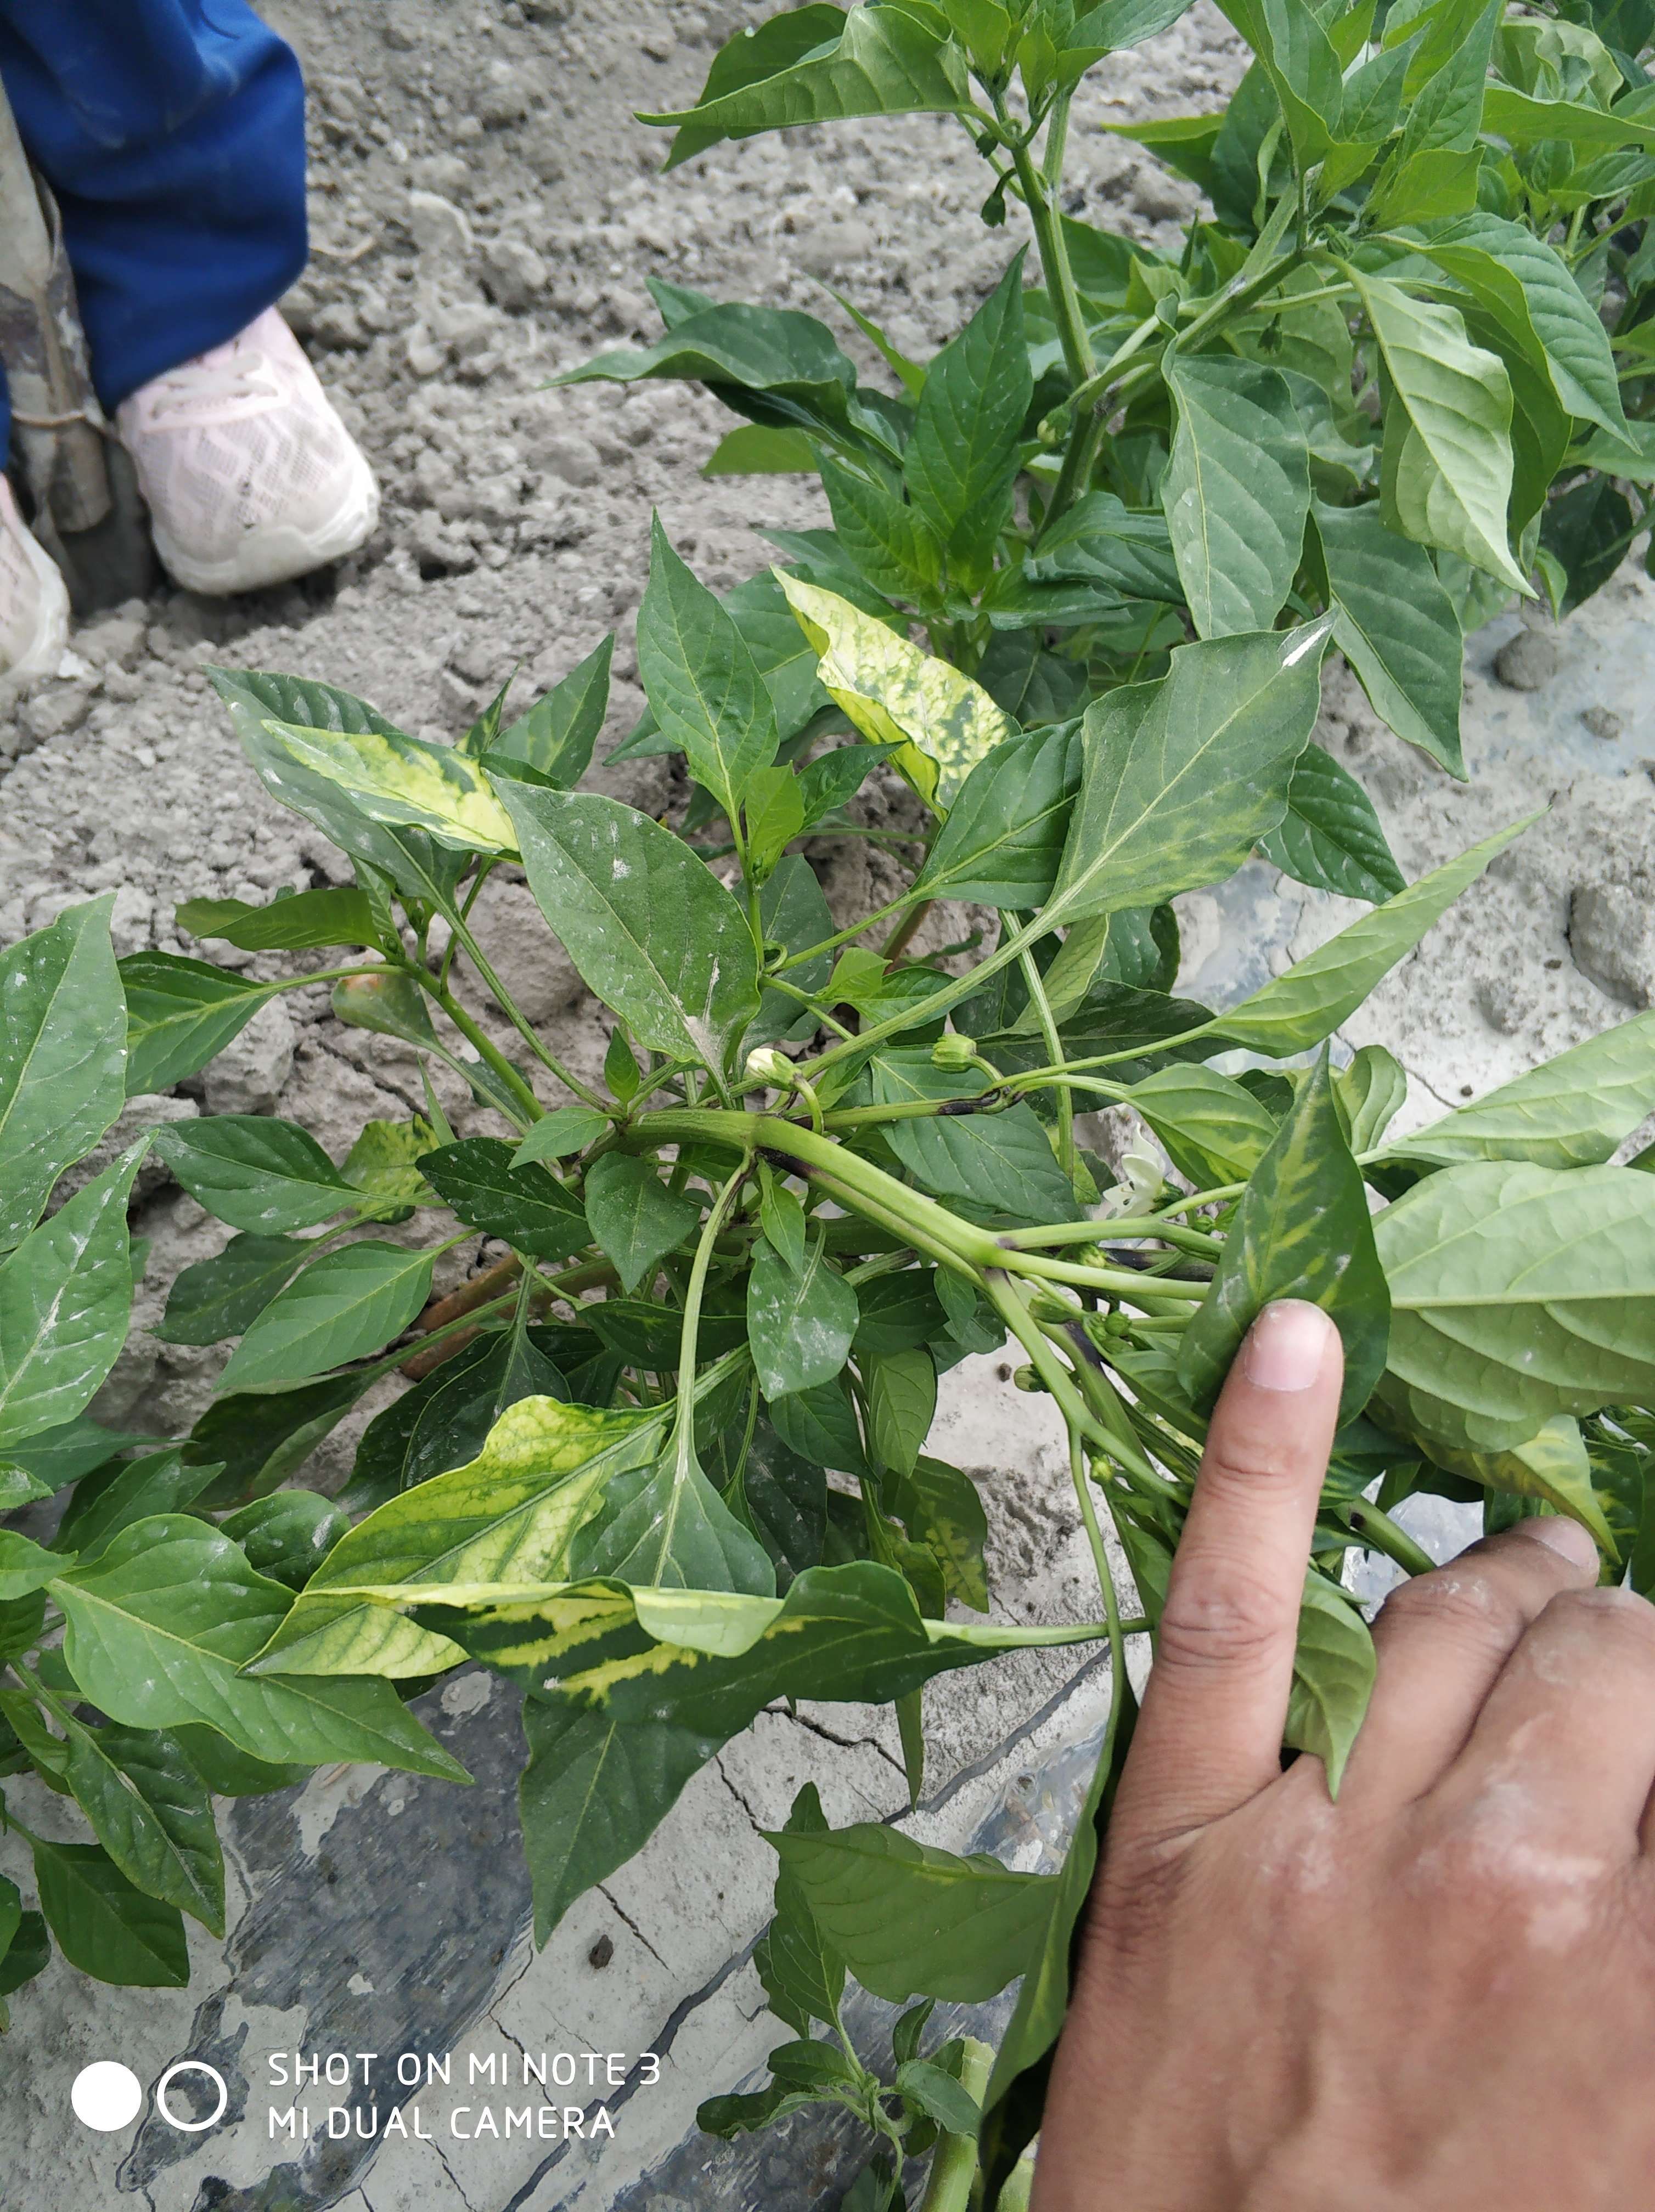iouv: (229, 1392, 652, 1680), (313, 1560, 996, 1717), (772, 572, 1019, 832), (273, 719, 568, 869)
